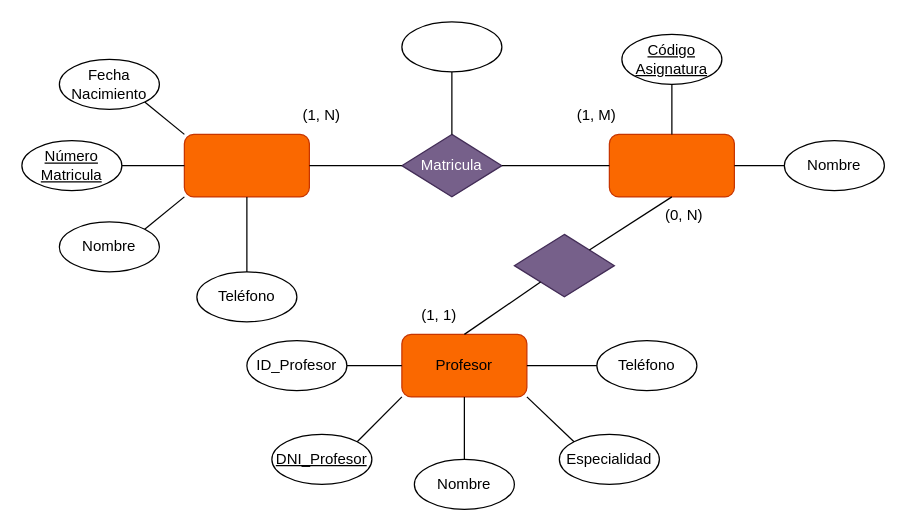
Image size: 906x531. Some labels were removed from this diagram. Each missing label, with the box of its shape:
Alumno: (183, 133, 309, 197)
Asignatura: (608, 133, 734, 197)
Curso Escolar: (401, 21, 502, 72)
Imparte: (513, 233, 614, 297)
